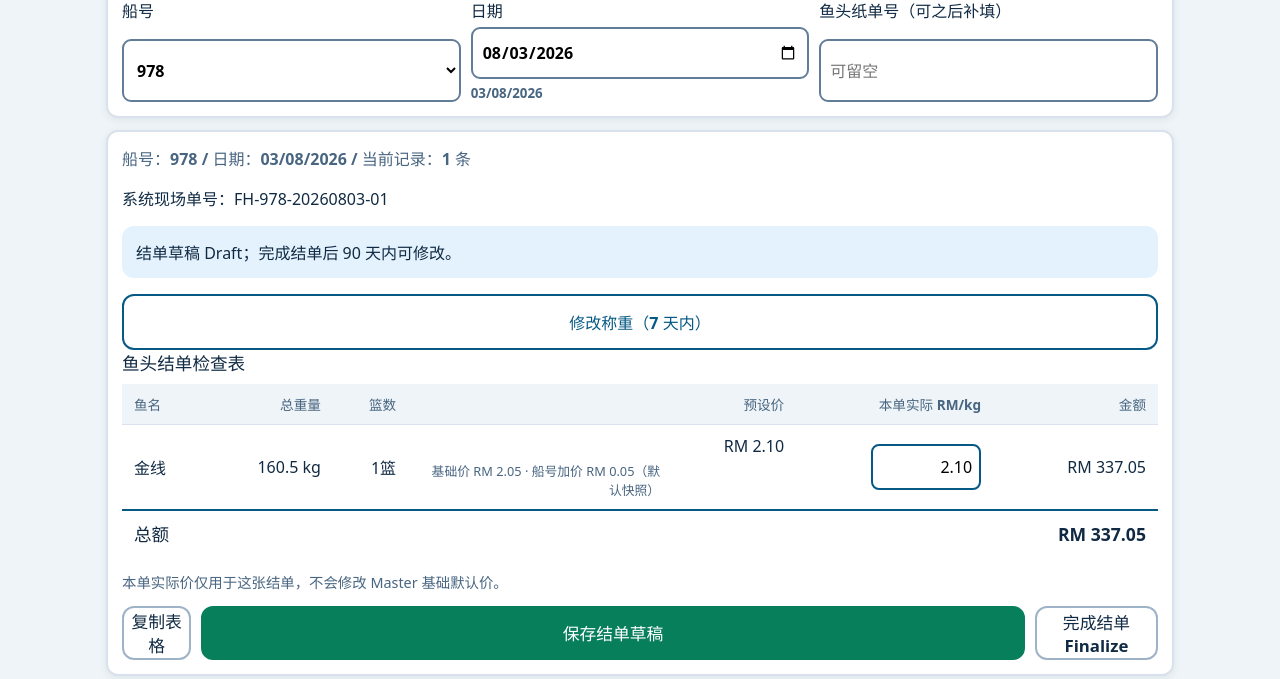
Test: purchase settlement MVP pages › claims copied only after the Clipboard API actually writes the original Excel TSV
(page scrolled)
Expected: the table is shown, x1=122 y1=350 x2=1158 y2=556
Click the button "复制表格" at (157, 633), box x1=122 y1=606 x2=191 y2=660
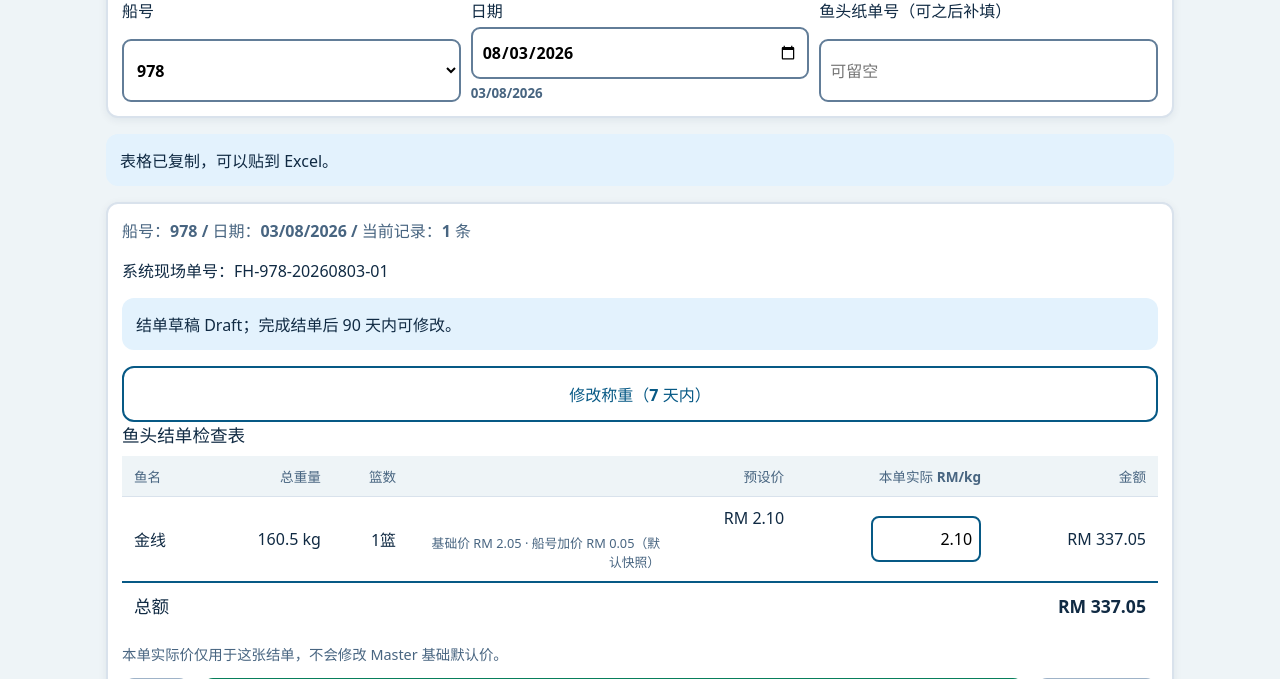
Now the text "表格已复制，可以贴到 Excel。" is shown, box x1=106 y1=134 x2=1174 y2=186
